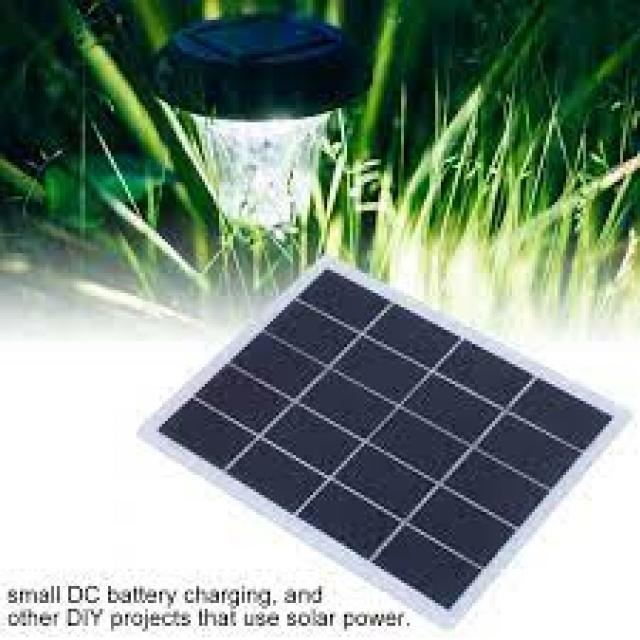no faulty: (134, 270, 618, 616)
